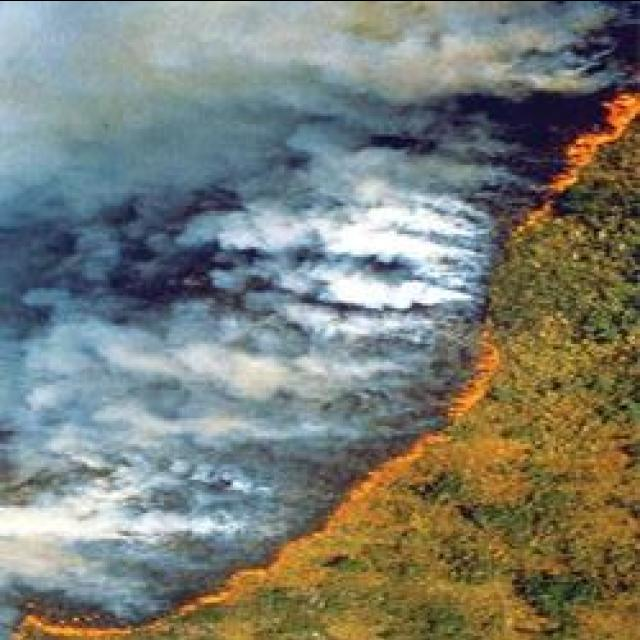smoke: (188, 192, 482, 346), (319, 0, 625, 99), (0, 463, 228, 571)
